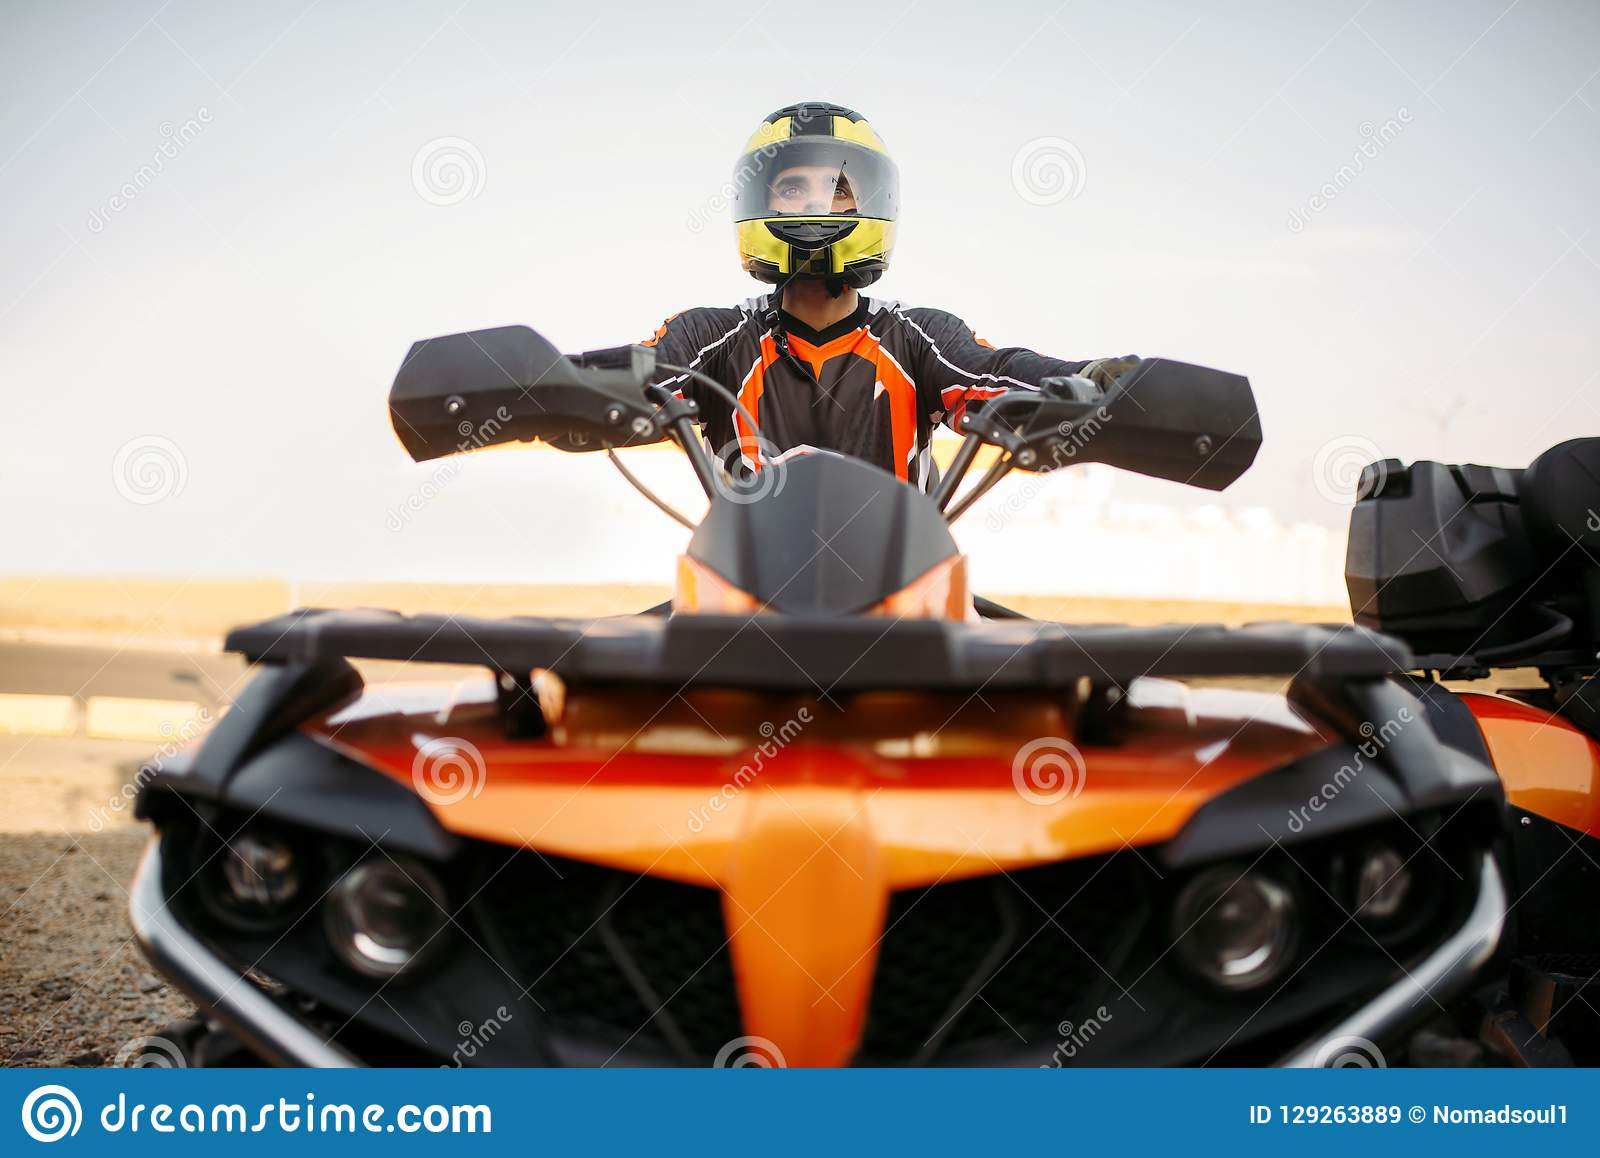helmet: (734, 97, 912, 288)
